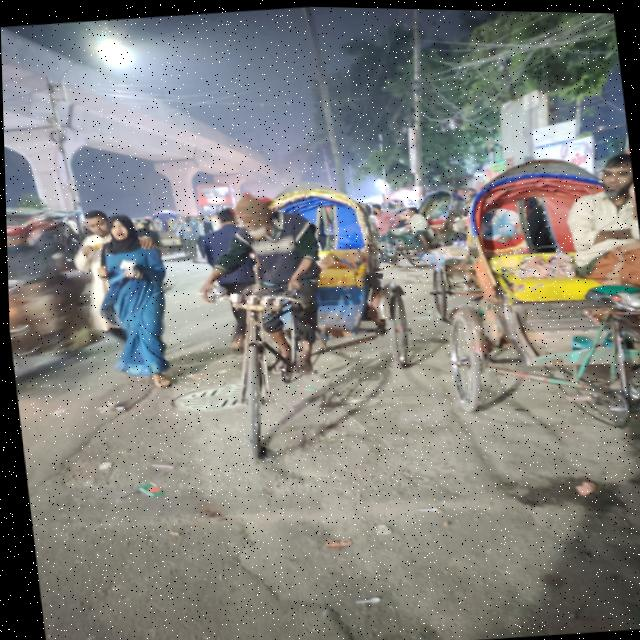rikshaw: (206, 142, 442, 493), (430, 142, 640, 528), (383, 176, 486, 283)
